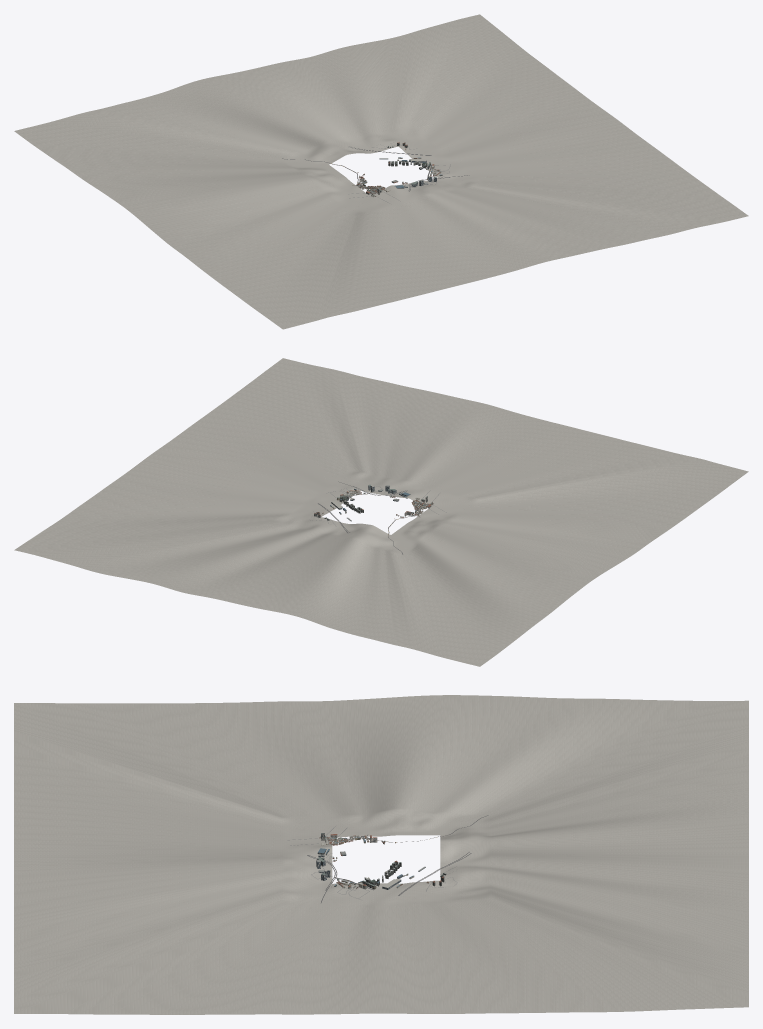
3 renders of one model, top to bottom at view 1: azimuth 30°, elevation 25°; view 2: azimuth 150°, elevation 25°; view 3: azimuth 270°, elevation 25°, orthographic. The views are drawn at different scales.
Visible parts, largest first — view 1: ctx-ground, ctx-buildings; view 2: ctx-ground, ctx-buildings; view 3: ctx-ground, ctx-buildings.
Boxes of the visible parts, x1,y1,x2,y2 form: ctx-ground: (14,14,748,329); ctx-buildings: (356,142,442,196); ctx-ground: (14,358,748,666); ctx-buildings: (314,484,433,521); ctx-ground: (14,695,748,1014); ctx-buildings: (316,833,446,889).
Size of the model in its own units: 7600 by 132 by 7600.
Materials: 15 (13 with a texture image).
